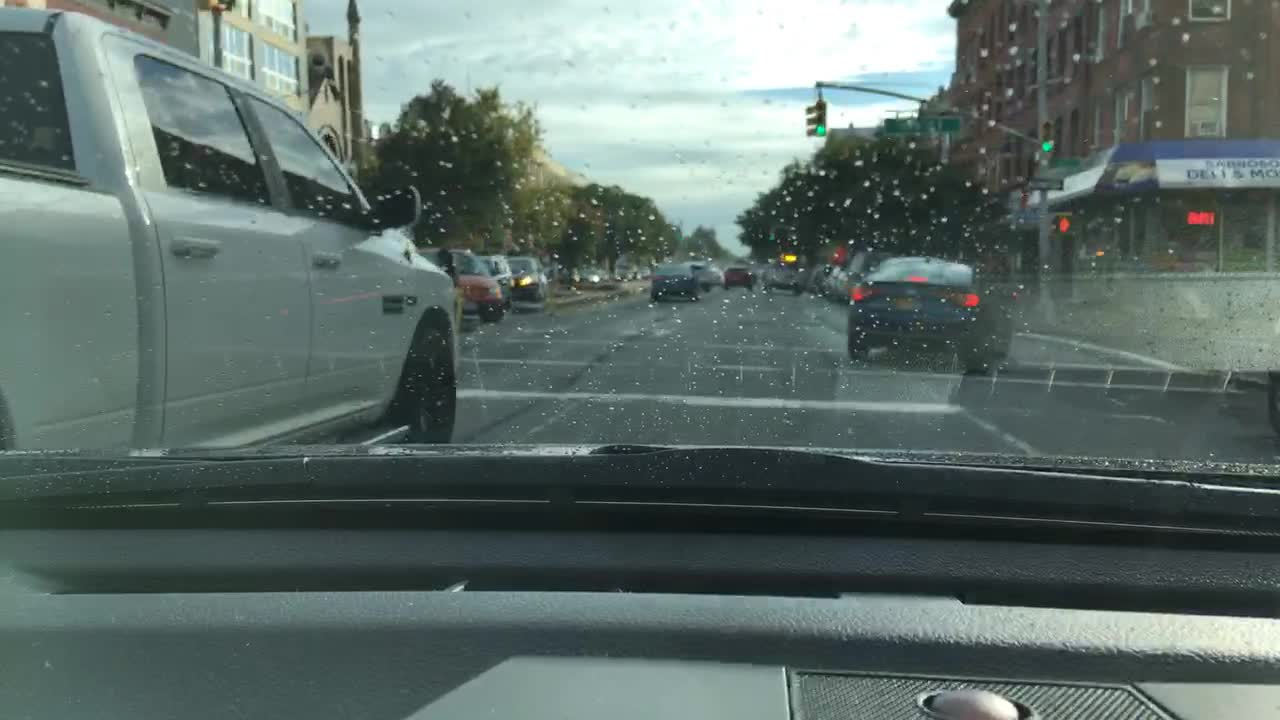car: (1, 0, 466, 453), (845, 253, 1014, 370), (417, 243, 506, 322), (821, 247, 895, 301), (648, 258, 702, 302), (501, 253, 550, 301), (476, 251, 517, 306), (762, 258, 805, 296), (723, 261, 756, 290), (694, 263, 729, 290), (804, 263, 832, 296), (543, 263, 570, 283), (579, 264, 610, 281), (614, 261, 641, 280), (684, 259, 708, 273), (637, 264, 652, 279)
traffic light: (804, 101, 825, 137), (1049, 211, 1075, 233), (1036, 134, 1056, 162)
traffic sign: (882, 113, 963, 135), (1021, 175, 1063, 192)
